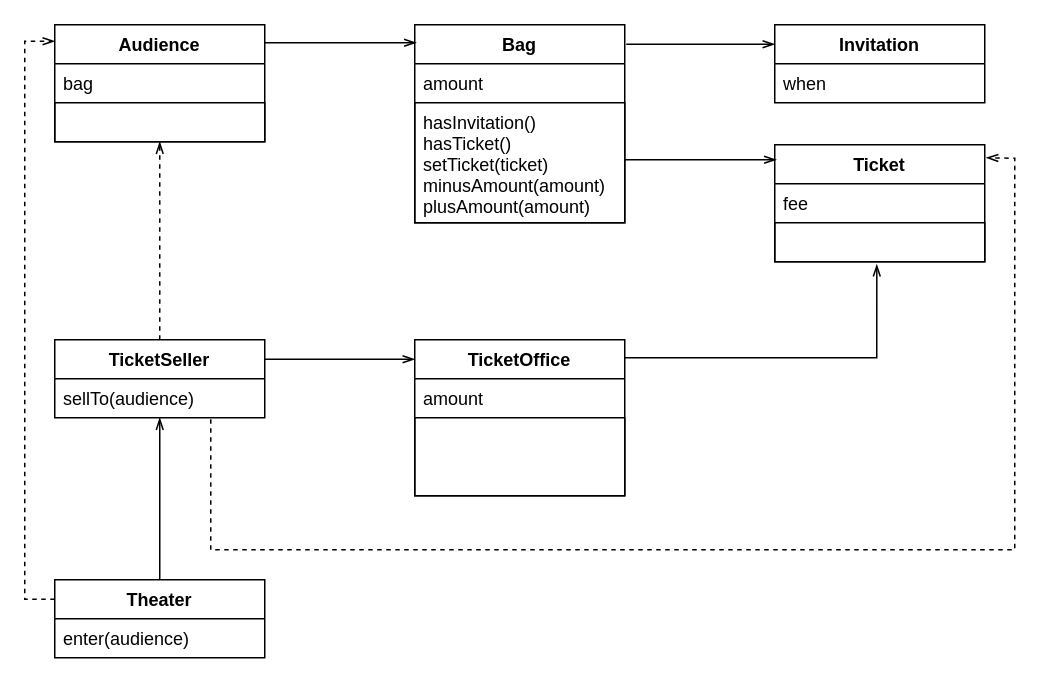
Some shapes in this 1040 by 683 pixel diagram are drawn without their labels. Here are the shapes that lost their labels. From the top down, the centre of each, then its label:
At (159,121): "buy(ticket)".
At (879,241): "getFee()".
At (519,456): "getTicket() minusAmount(amount) plusAmount(amount)".
